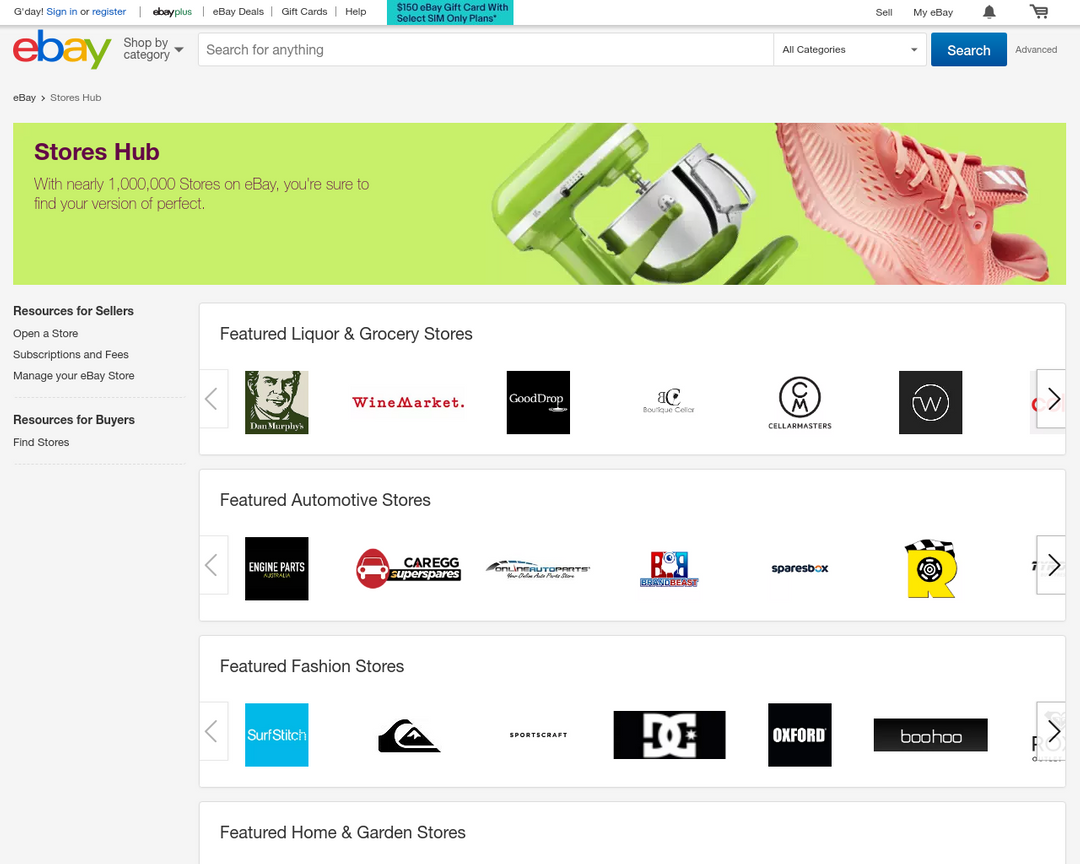Ebay: (11, 27, 115, 77)
